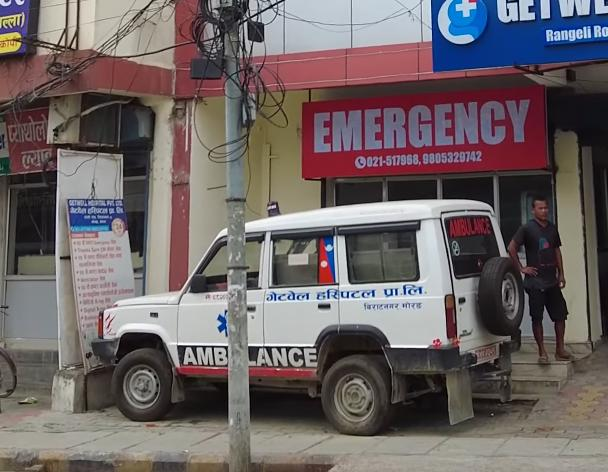ambulance: (88, 191, 529, 444)
